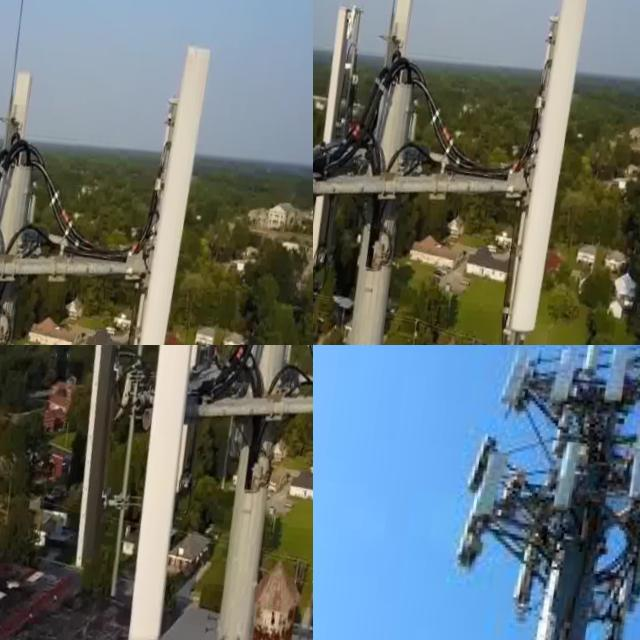GSM Antenna: (489, 0, 608, 345), (96, 345, 234, 640), (108, 36, 227, 345), (44, 345, 171, 582), (313, 2, 366, 268), (159, 345, 230, 502), (0, 62, 41, 246), (544, 425, 588, 517), (538, 345, 586, 422), (380, 0, 418, 77), (497, 350, 537, 417), (598, 346, 632, 411), (464, 434, 499, 492), (615, 442, 640, 523)
